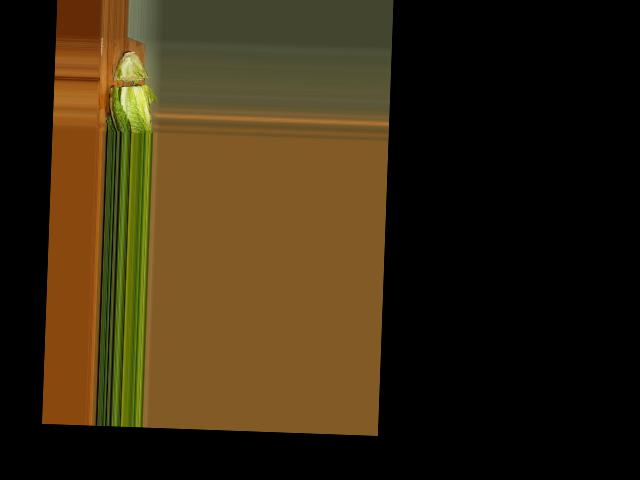lettuce: (103, 51, 157, 132)
